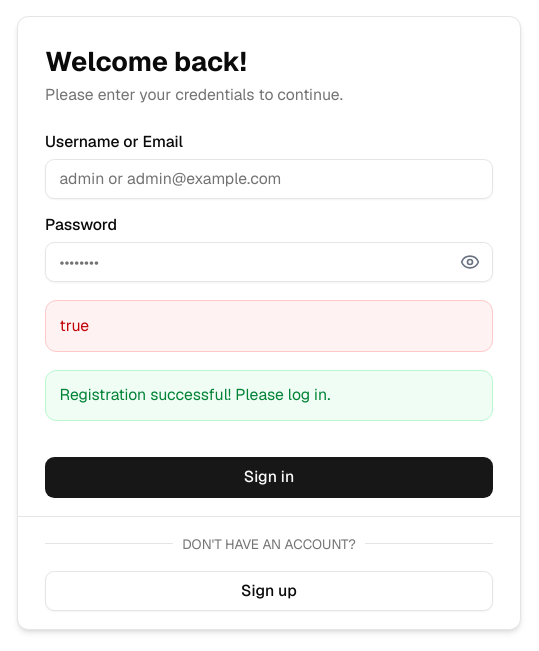
Test: LoginForm › should display error message from signIn
The width and height of the screenshot is (539, 651).
Type "wronguser" into the field labelled "Username or Email". click: x=269, y=179
box: top-left (45, 158), bottom-right (493, 199)
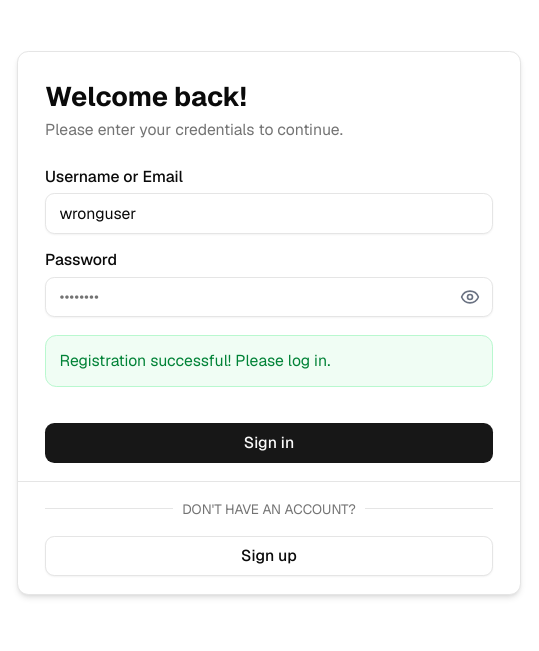
Type "wrongpass" into the password field labelled "Password". click: x=269, y=297
box: top-left (45, 276), bottom-right (493, 317)
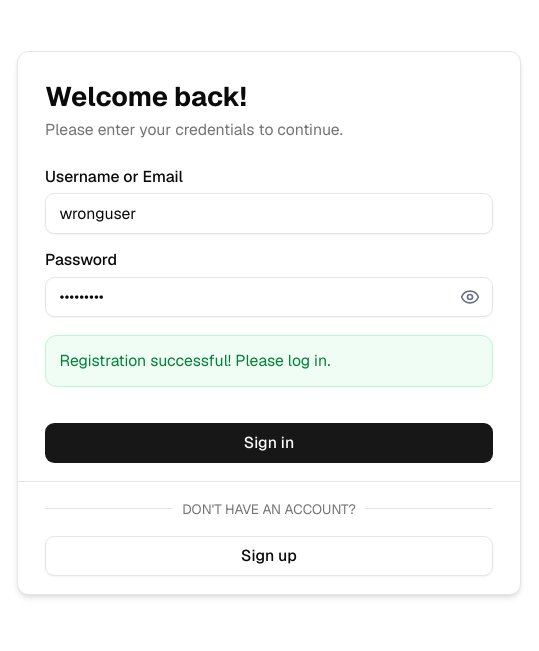
Click the button "Sign in". click: x=269, y=443
box: top-left (45, 422), bottom-right (493, 463)
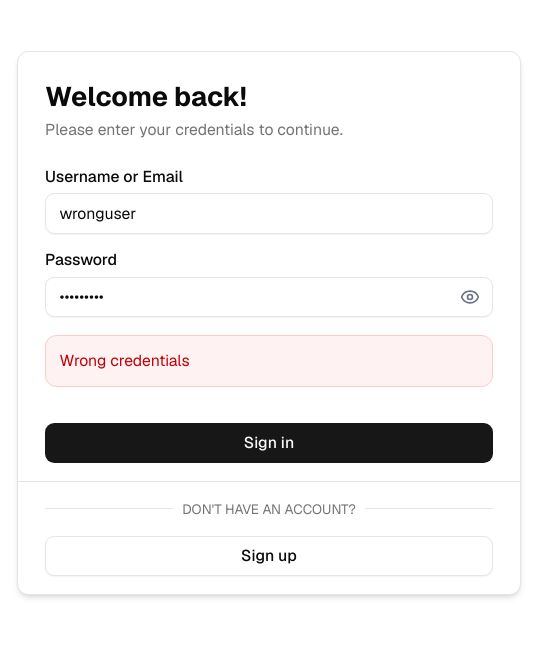
Expected: the text "Wrong credentials" is shown, top-left (45, 335), bottom-right (493, 386)
